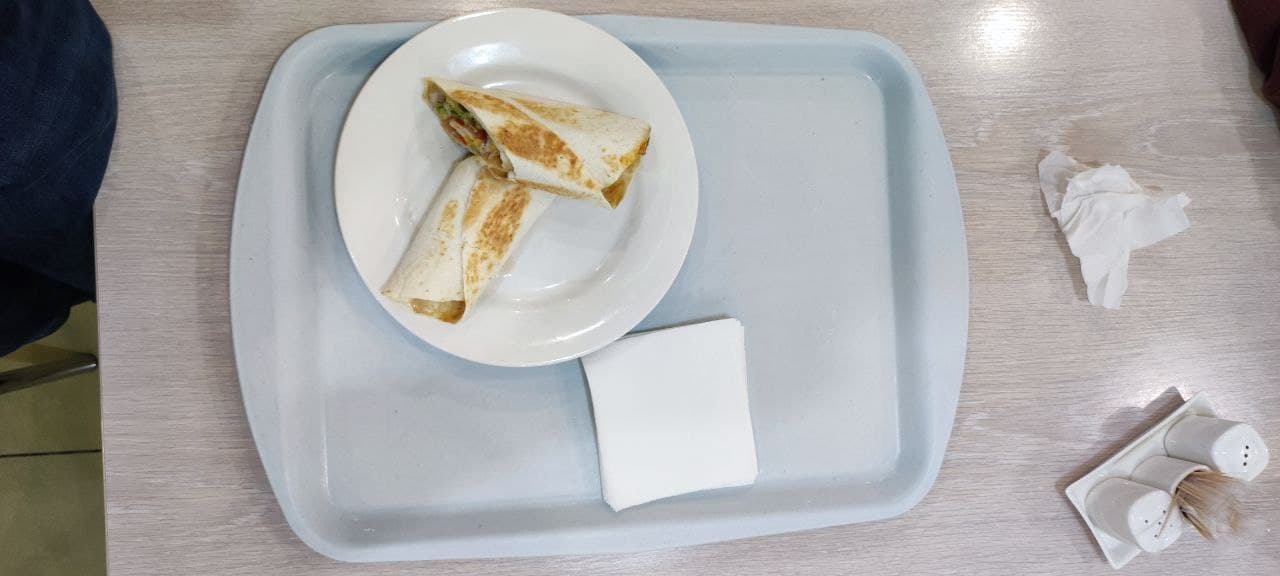Кесадилья с курицей: (380, 81, 652, 323)
Поднос: (228, 12, 969, 564)
Салфетки: (587, 334, 759, 487)
Тарелка: (332, 10, 701, 368)
